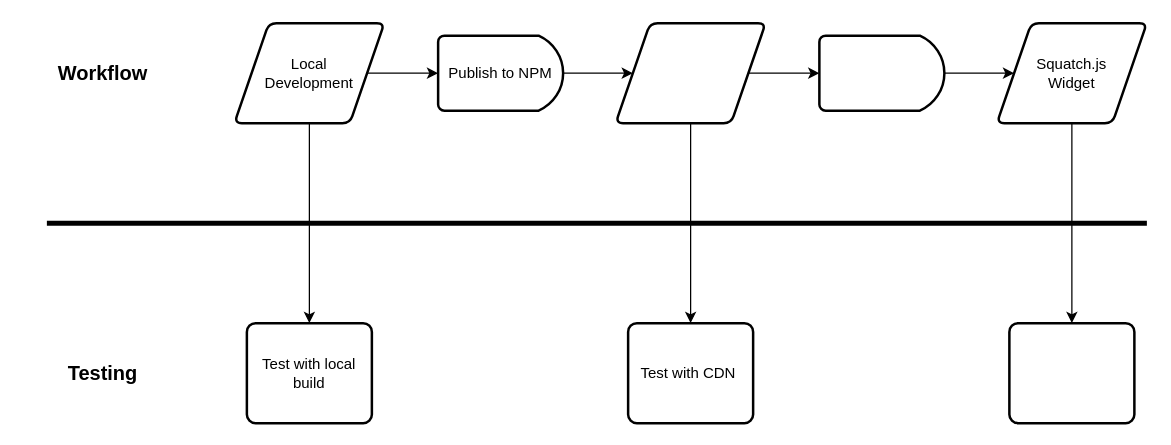
This 1171x445 diagram has some shape labels left out. The shapes that lost their labels are listed below. From the top down, each one's centre as x and y in pixels, then its label:
At (690,72): "NPM".
At (881,72): "Implement widget in portal editor".
At (1071,372): "Test with squatch.js library".
